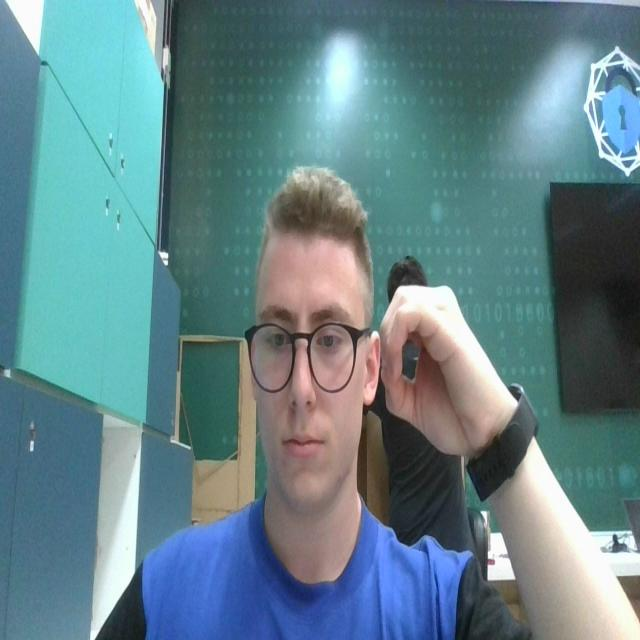O: (374, 272, 500, 450)
